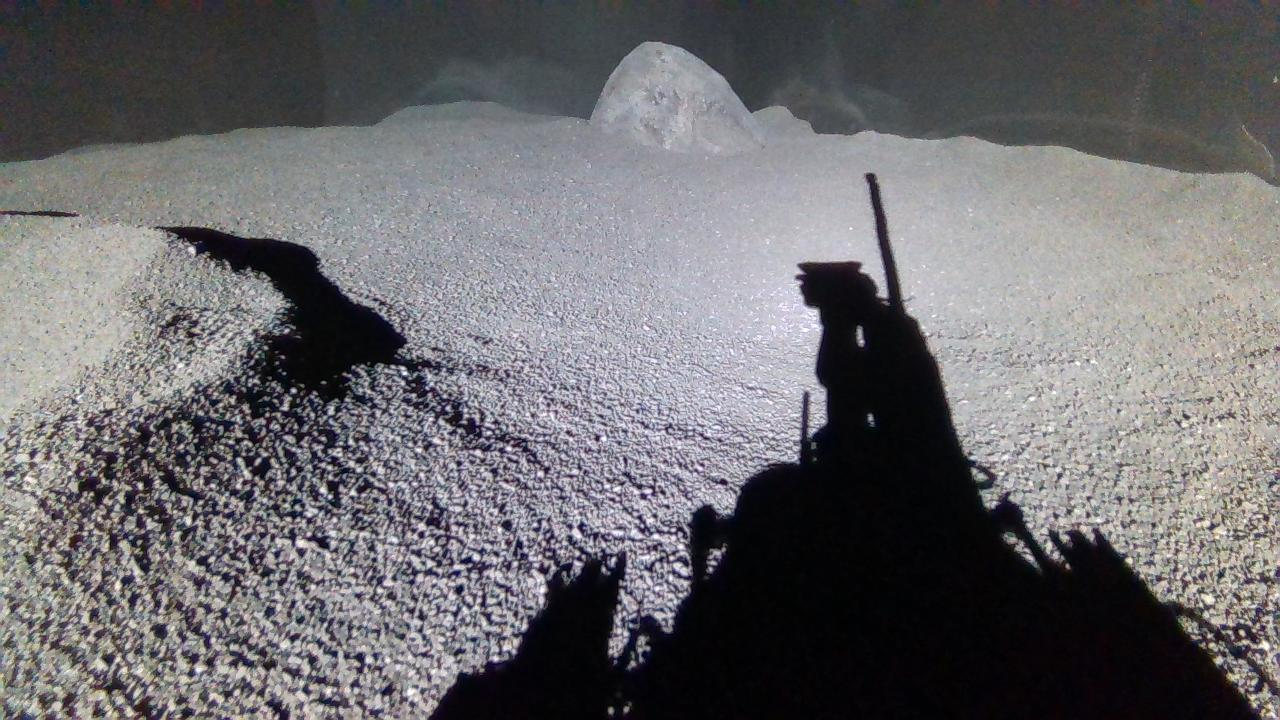rock: (591, 40, 766, 154)
